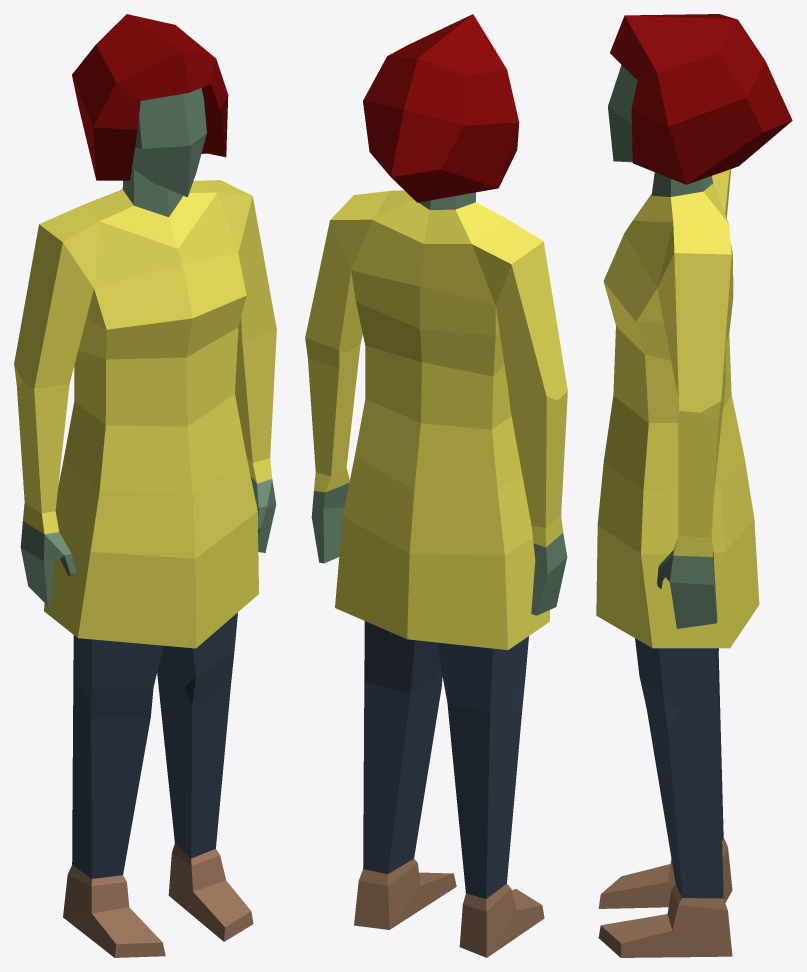
File: girl.glb
3 renders of one model, left to right at view 1: azimuth 30°, elevation 25°; view 2: azimuth 150°, elevation 25°; view 3: azimuth 270°, elevation 25°, orthographic. The views are drawn at different scales.
Visible parts, largest first — view 1: woman-ginger; view 2: woman-ginger; view 3: woman-ginger.
Boxes of the visible parts, left/top/right/bottom form: woman-ginger: left=14, top=14, right=276, bottom=957; woman-ginger: left=305, top=14, right=567, bottom=957; woman-ginger: left=596, top=14, right=792, bottom=957.
Size of the model in its own units: 0.5287 by 1.85 by 0.3617.
Materials: 1 (1 with a texture image).
